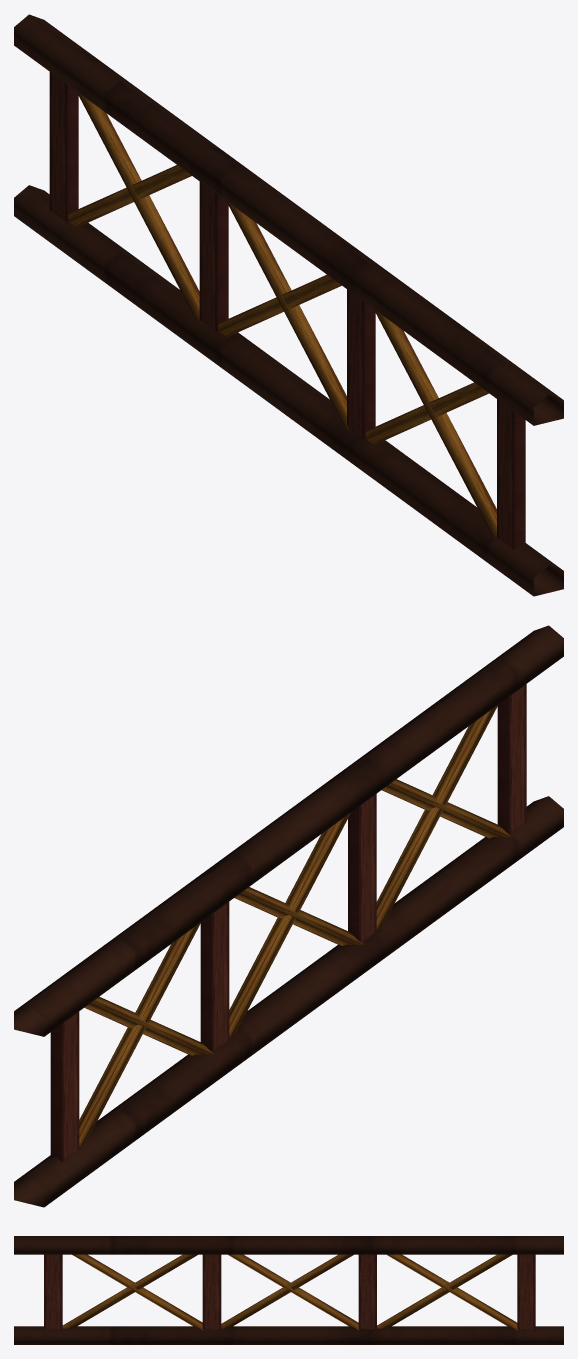
Rendered from Kit_Fence_01.FBX.
3 renders of one model, top to bottom at view 1: azimuth 30°, elevation 25°; view 2: azimuth 150°, elevation 25°; view 3: azimuth 270°, elevation 25°, orthographic. The views are drawn at different scales.
Visible parts, largest first — view 1: Kit_Fence_01; view 2: Kit_Fence_01; view 3: Kit_Fence_01.
Part boxes in pixels (x1=…): Kit_Fence_01: x1=14, y1=14, x2=563, y2=596; Kit_Fence_01: x1=14, y1=625, x2=563, y2=1207; Kit_Fence_01: x1=14, y1=1236, x2=563, y2=1344.
Bounding box in the file's own units: 0.1347 × 4.01 × 0.843.
